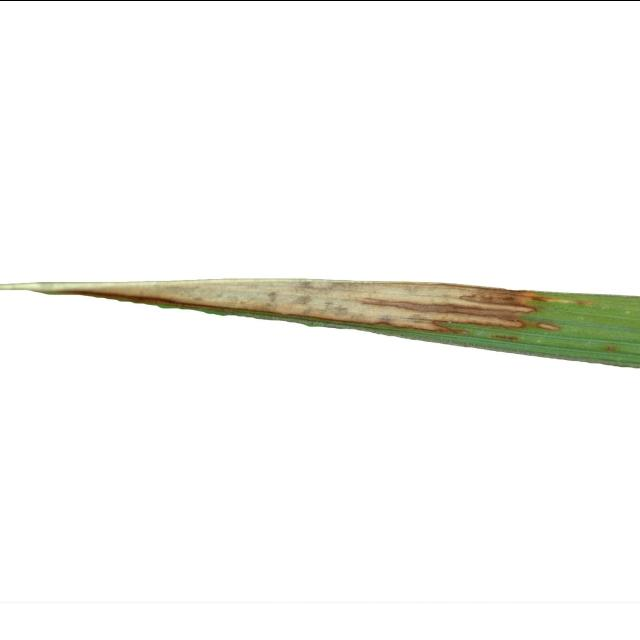Leaf scald: (0, 222, 640, 423)
